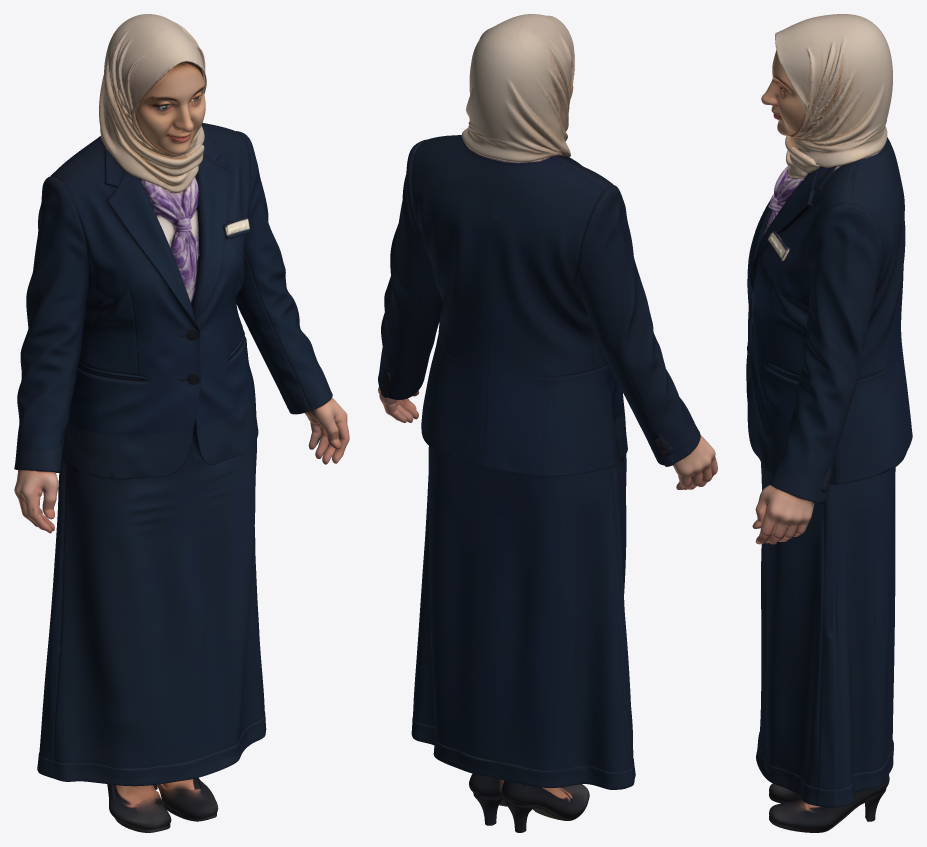
Rendered from receptionist.glb.
3 views of the same model, side by side, from view 1: azimuth 30°, elevation 25°; view 2: azimuth 150°, elevation 25°; view 3: azimuth 270°, elevation 25° (orthographic).
Visible parts, largest first — view 1: node_0; view 2: node_0; view 3: node_0.
Boxes of the visible parts, x1,y1,x2,y2 form: node_0: (14, 14, 349, 832); node_0: (378, 14, 717, 832); node_0: (746, 14, 912, 832).
Size of the model in its own units: 0.5178 by 1.19 by 0.2254.
1 material, 1 textured.
